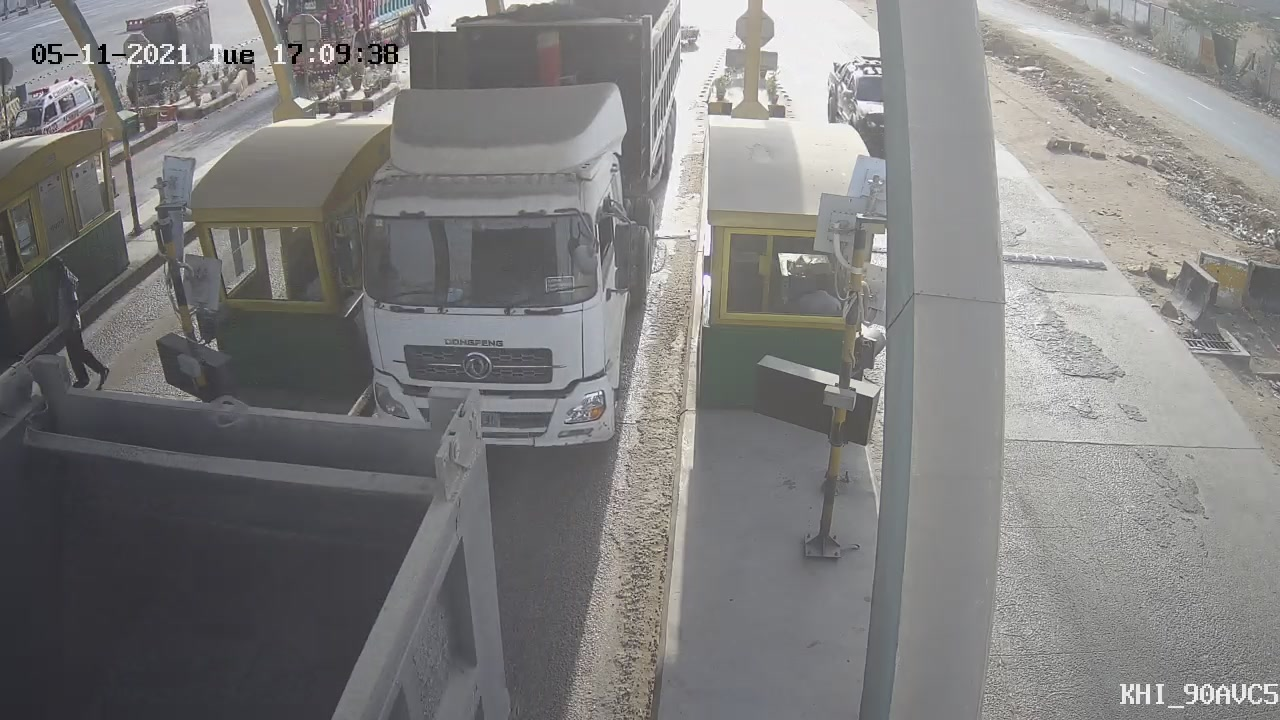F6: (320, 1, 703, 478)
